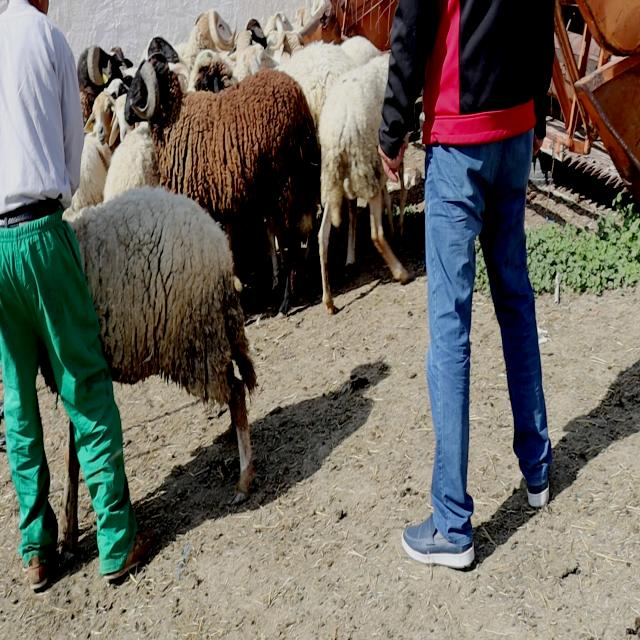Score_5: (69, 187, 257, 501)
